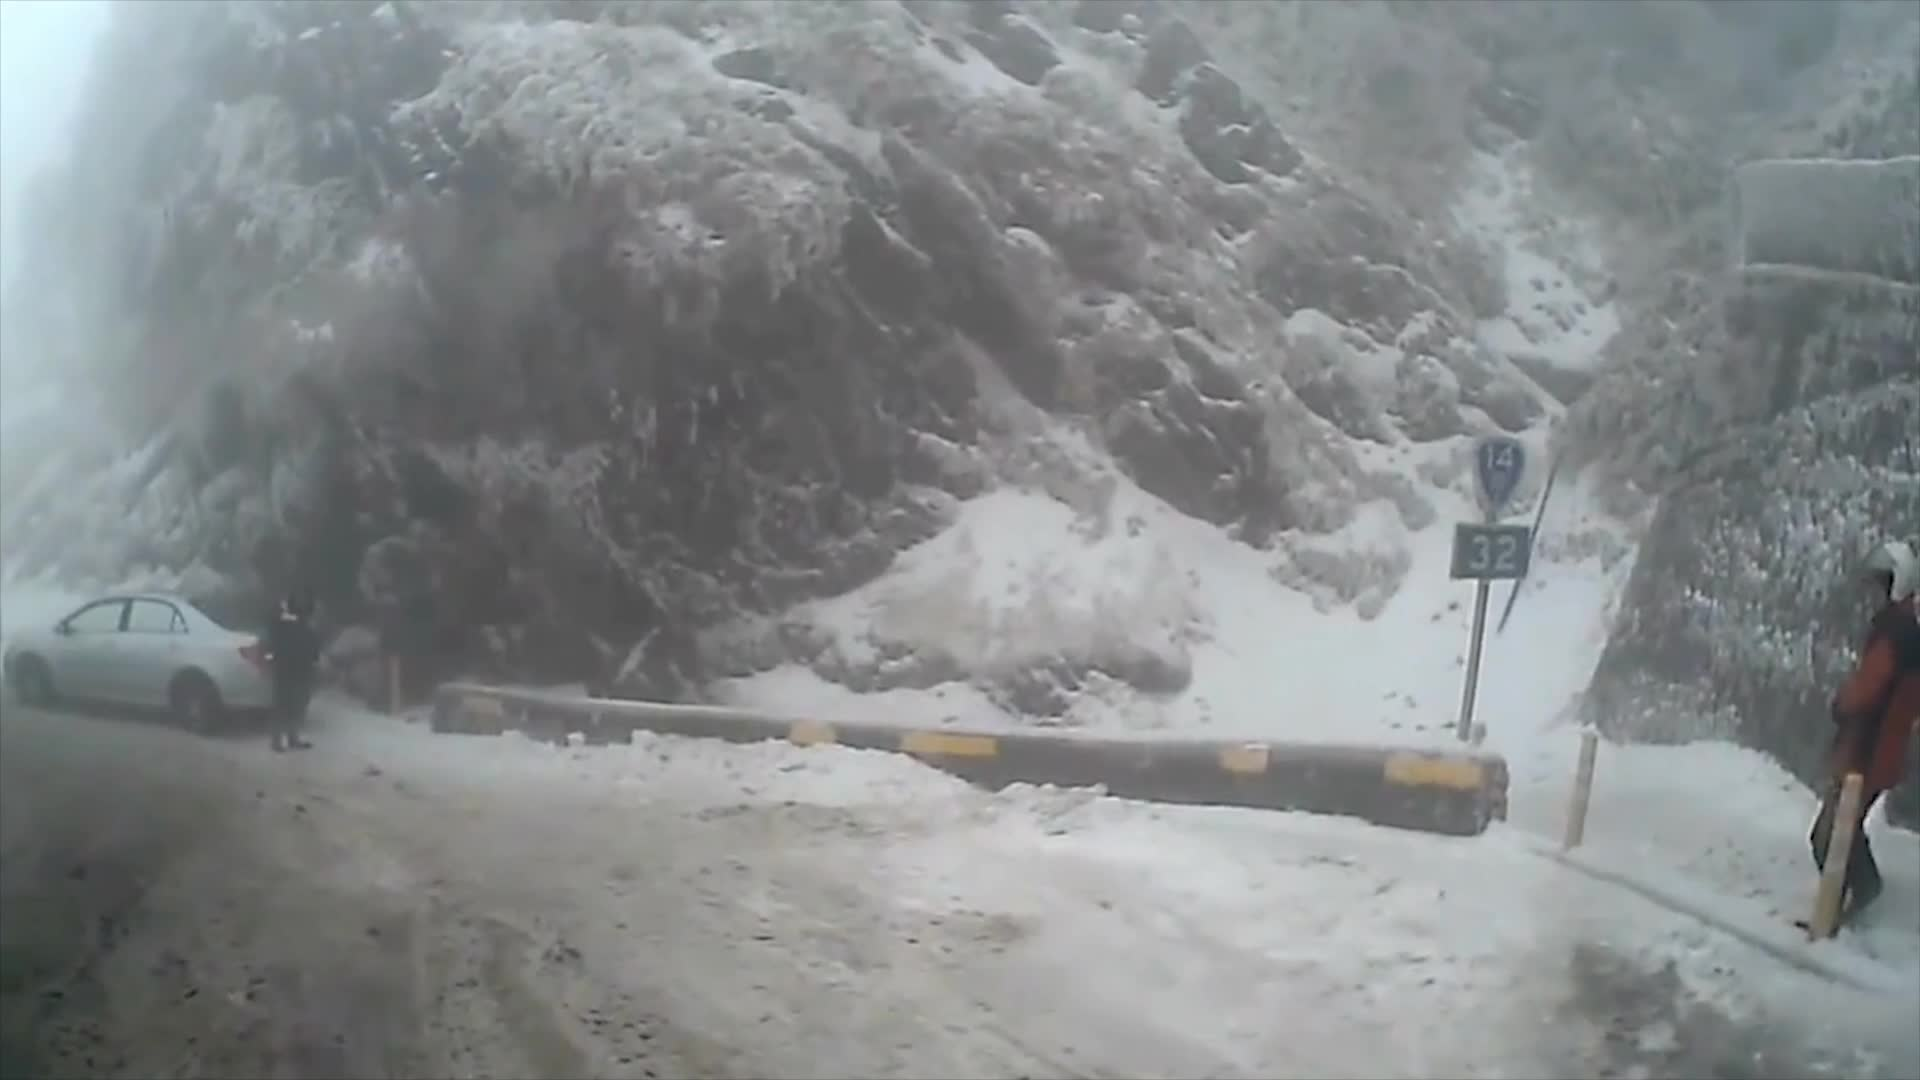pedestrian: (1785, 527, 1920, 944), (263, 582, 323, 749)
vehicle: (2, 586, 301, 733)
